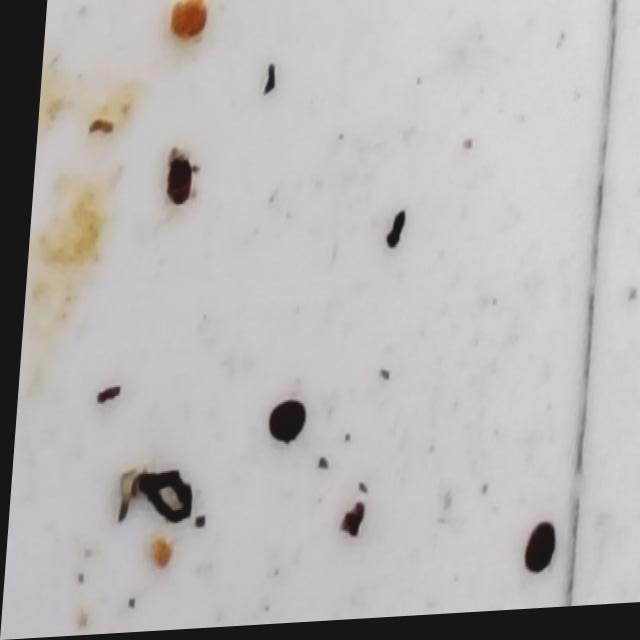varroa: (522, 525, 559, 582), (157, 152, 192, 209), (265, 399, 306, 447)
